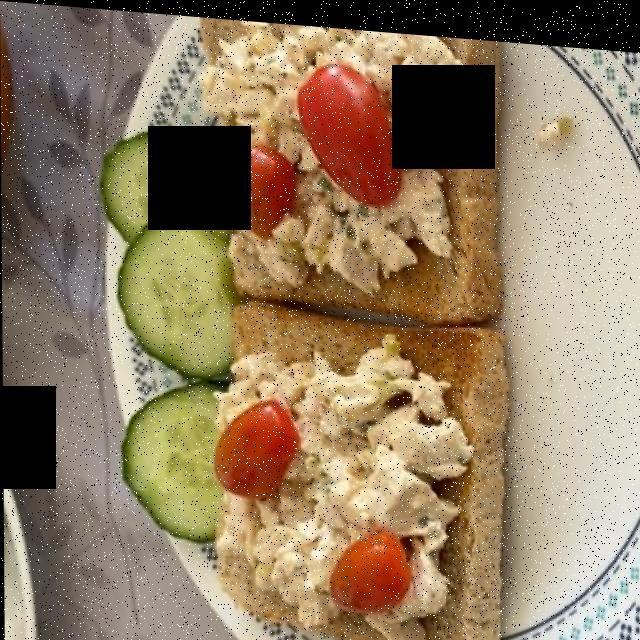bread: (203, 20, 506, 640)
chicken: (207, 19, 479, 637)
cucumber: (111, 128, 236, 537)
